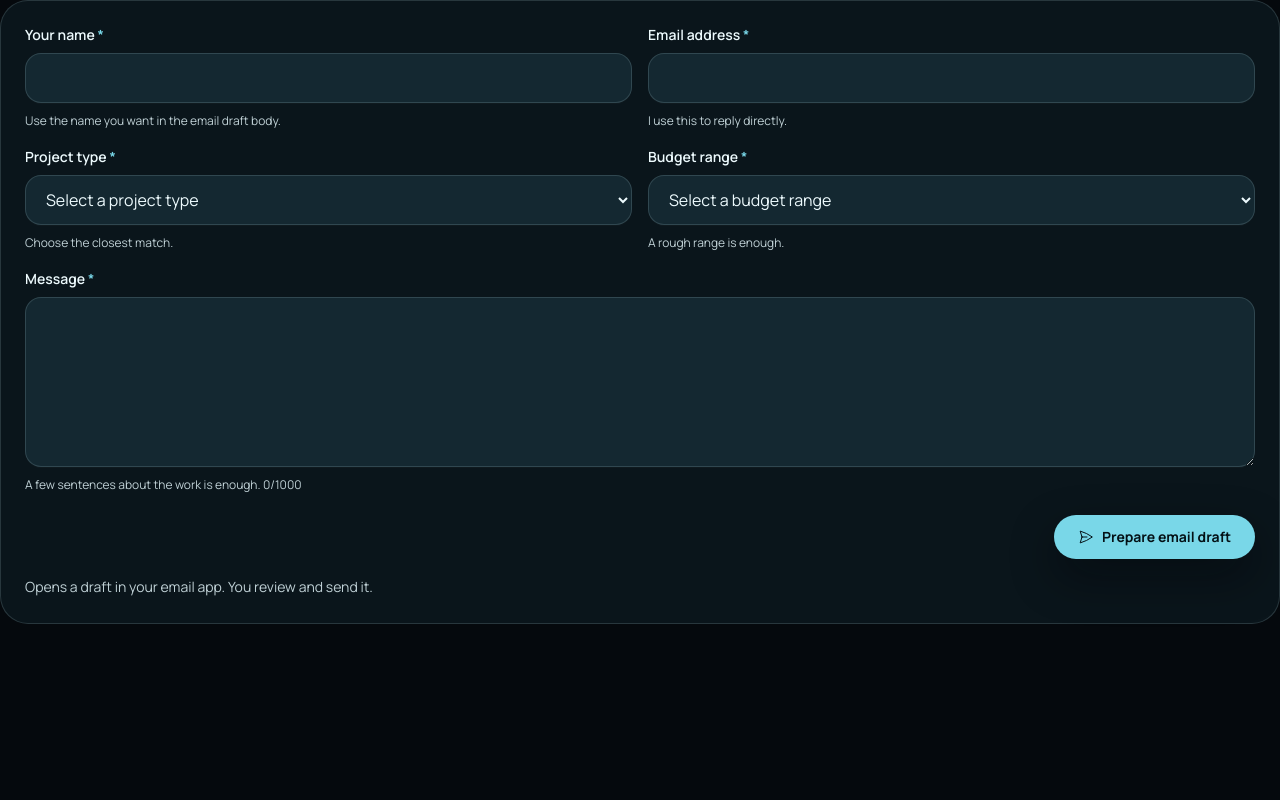
Test case: ContactComposer › reports a failed mail-app handoff without implying that anything was sent
Type "Steve Example" into the field labelled "Your name *" at [328, 78], box x1=25 y1=53 x2=632 y2=103
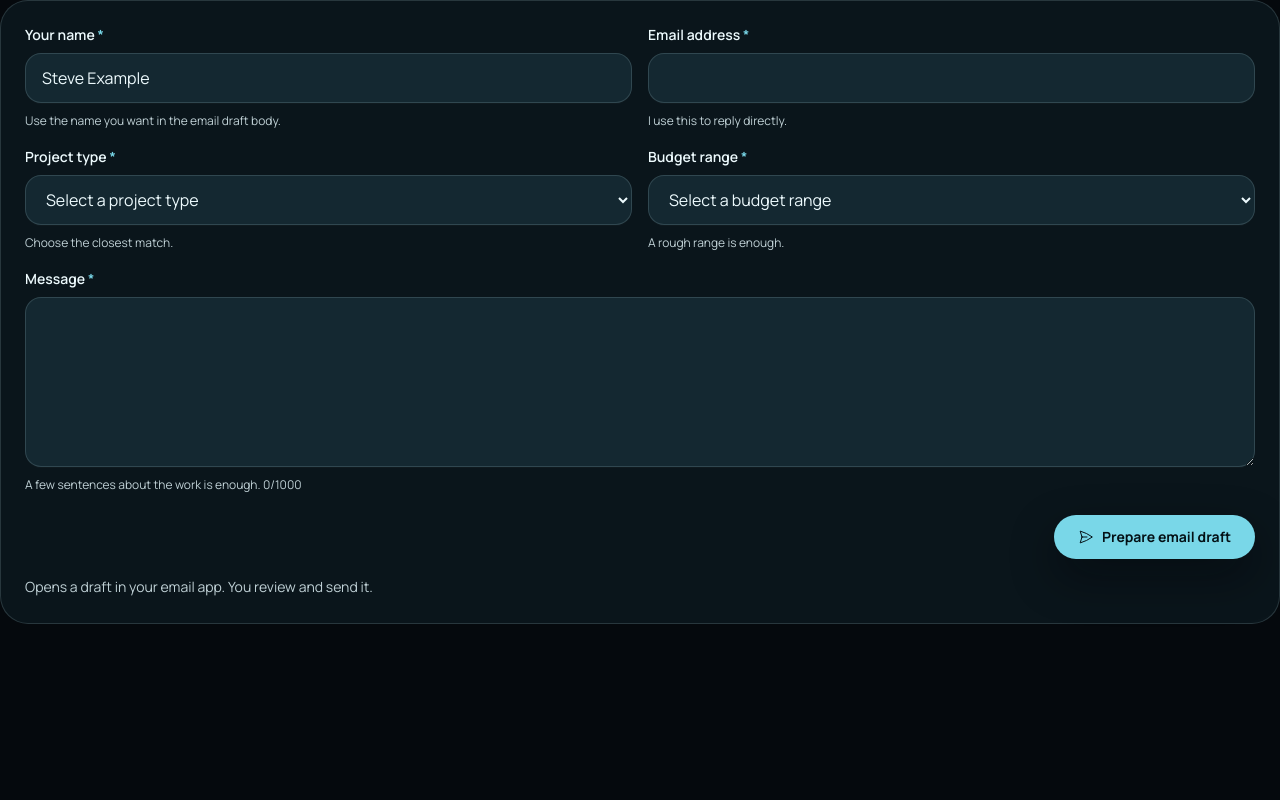
Type "steve@example.com" into the field labelled "Email address *" at [952, 78], box x1=648 y1=53 x2=1255 y2=103
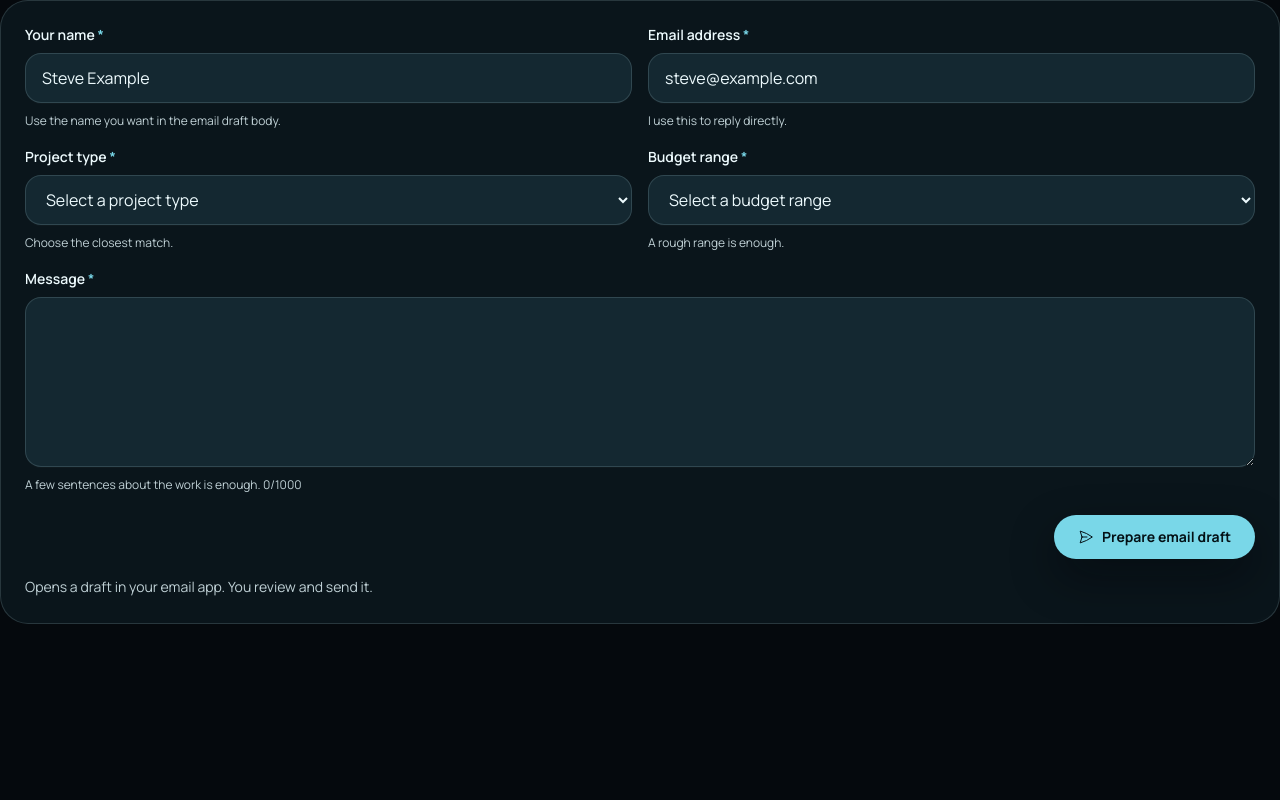
Select "New website" in the dropdown labelled "Project type *" at [328, 200], box x1=25 y1=175 x2=632 y2=225
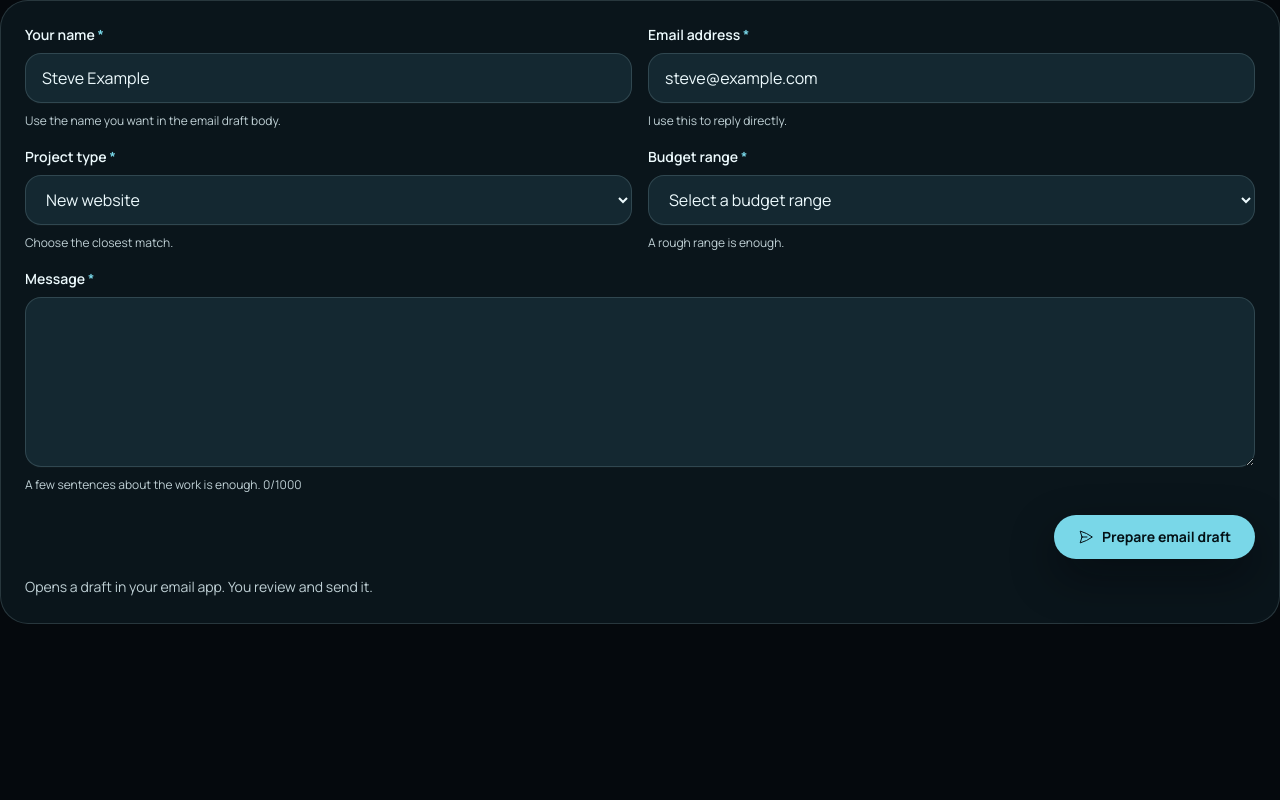
Select "$10k - $25k" in the dropdown labelled "Budget range *" at [952, 200], box x1=648 y1=175 x2=1255 y2=225
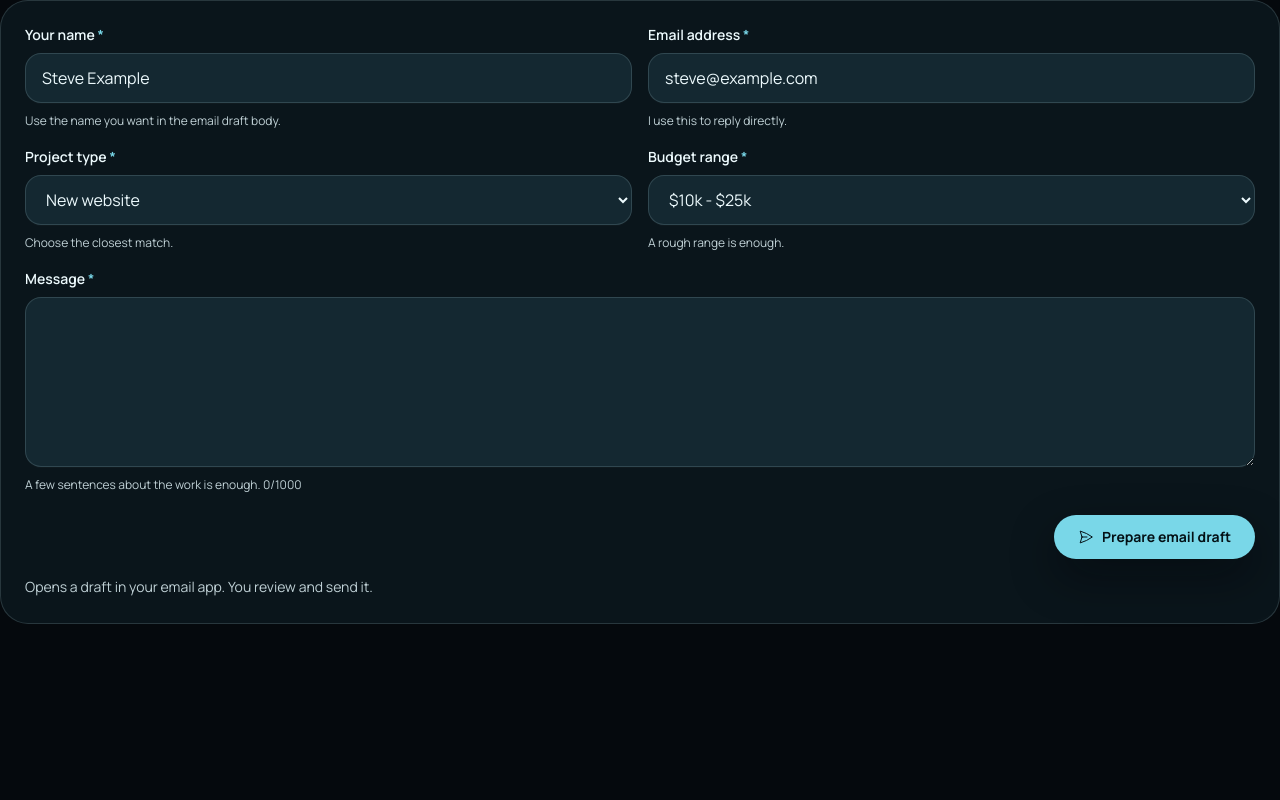
Type "This is a detailed enough project inquiry." into the text box labelled "Message *" at [640, 382], box x1=25 y1=297 x2=1255 y2=467
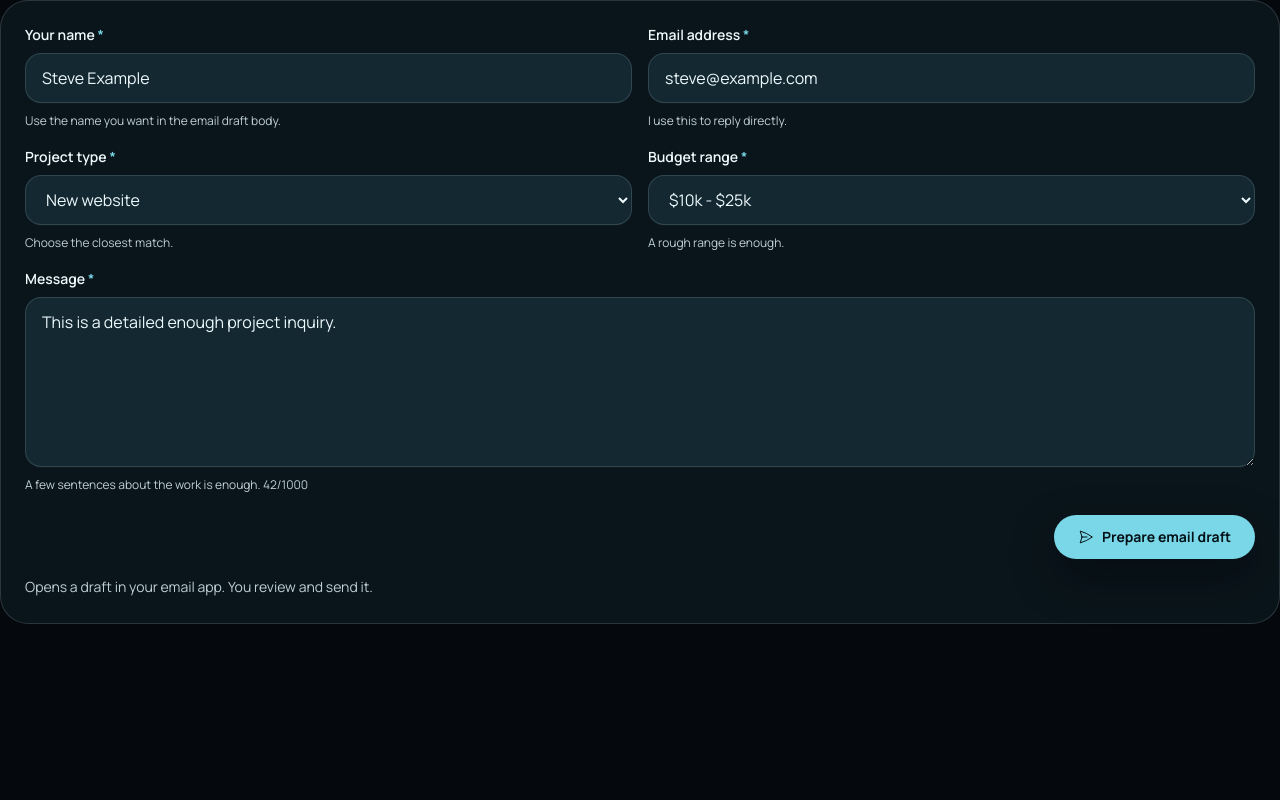
Submit the form
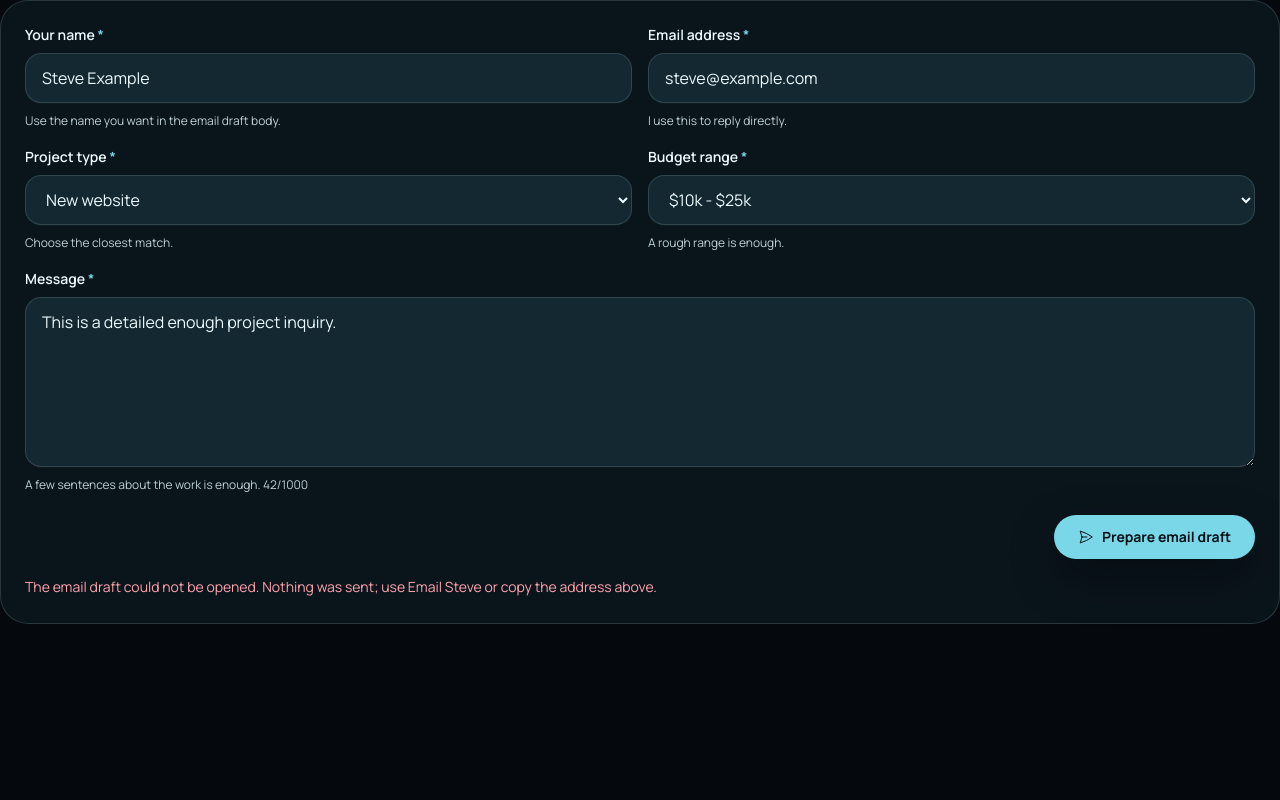
Expected: the button "Prepare email draft" is enabled, x1=1054 y1=515 x2=1255 y2=559
Expected: the message shows "could not be opened", x1=25 y1=577 x2=657 y2=596
Expected: the message shows "Nothing was sent", x1=25 y1=577 x2=657 y2=596
